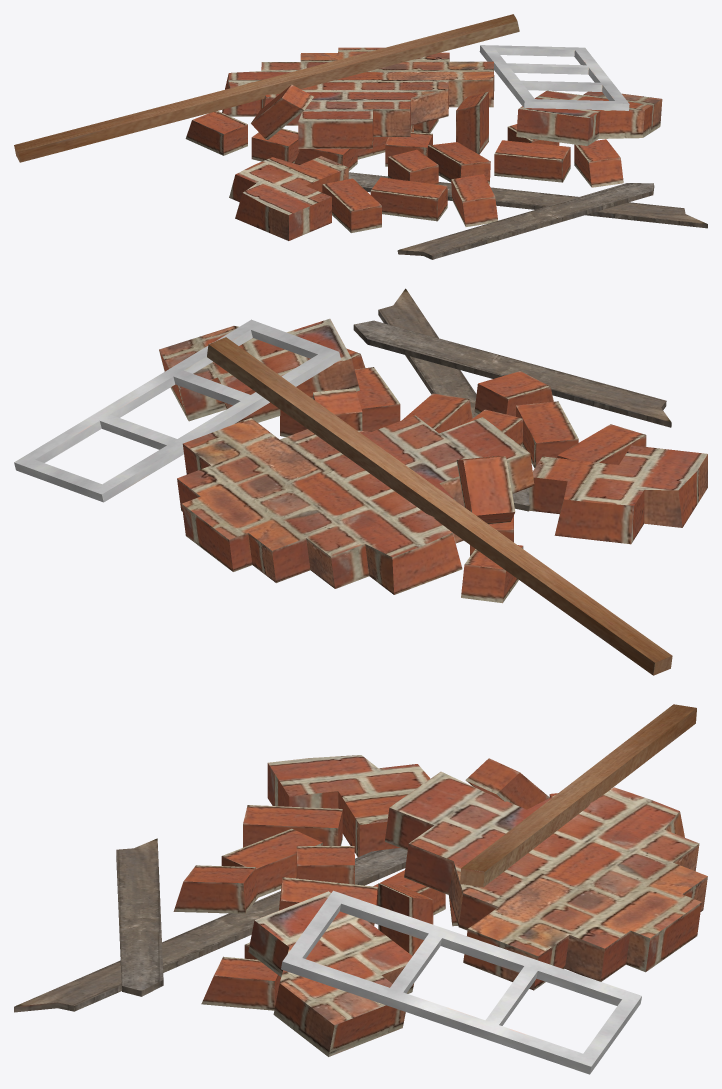
File: House_Rubble_01.obj
3 views of the same model, one above another, from view 1: azimuth 30°, elevation 25°; view 2: azimuth 150°, elevation 25°; view 3: azimuth 270°, elevation 25° (orthographic). The views are drawn at different scales.
Parts seen in each view (by area): view 1: House_Rubble_01; view 2: House_Rubble_01; view 3: House_Rubble_01.
Boxes of the visible parts, x1,y1,x2,y2 form: House_Rubble_01: (14, 14, 707, 259); House_Rubble_01: (14, 288, 707, 675); House_Rubble_01: (14, 704, 707, 1074).
Size of the model in its own units: 310 by 53.6 by 255.
